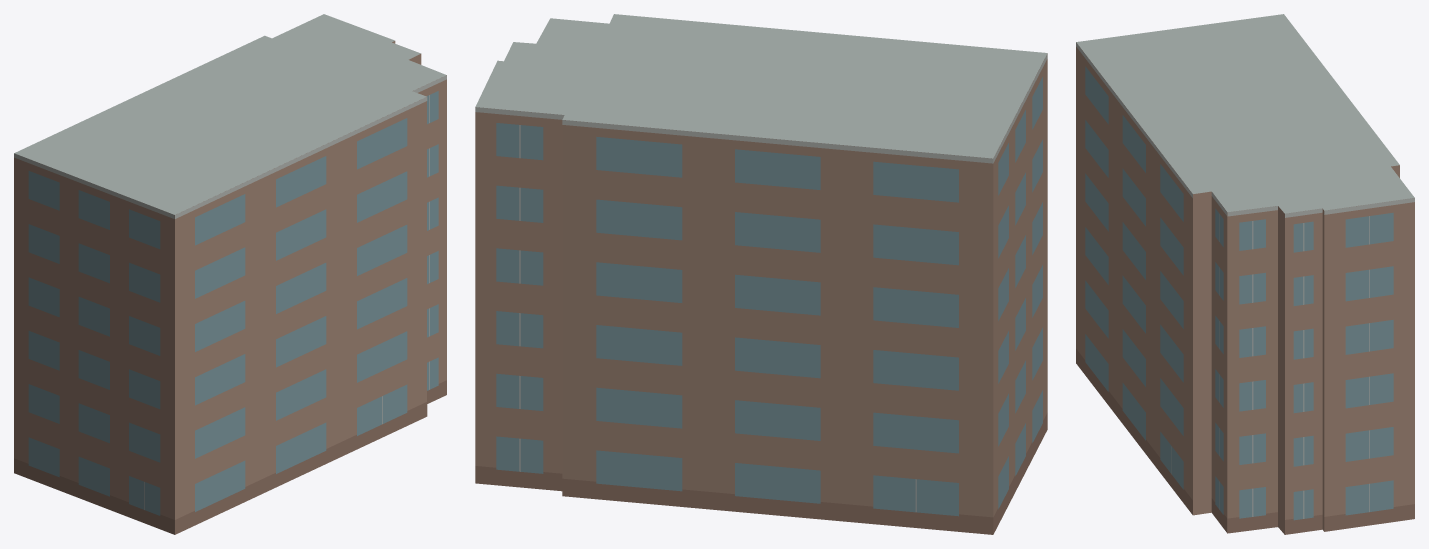
File: survey-upis-32811659.glb
The picture shows the model from 3 angles, left to right: view 1: azimuth 30°, elevation 25°; view 2: azimuth 150°, elevation 25°; view 3: azimuth 270°, elevation 25°; orthographic projection. The views are drawn at different scales.
Visible parts, largest first — view 1: survey-upis-32811659.tmp; view 2: survey-upis-32811659.tmp; view 3: survey-upis-32811659.tmp.
Boxes of the visible parts, <box> form: survey-upis-32811659.tmp: <box>14,14,446,534</box>; survey-upis-32811659.tmp: <box>475,14,1047,534</box>; survey-upis-32811659.tmp: <box>1076,14,1414,534</box>.
Bounding box in the file's own units: 24.41 × 18.3 × 17.5.
